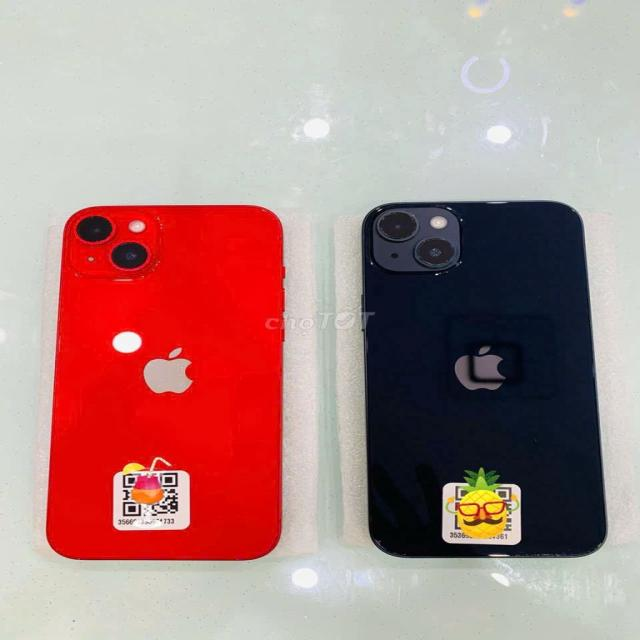gen_14: (39, 196, 296, 571)
